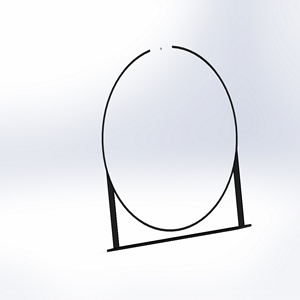circle: (100, 41, 252, 253)
